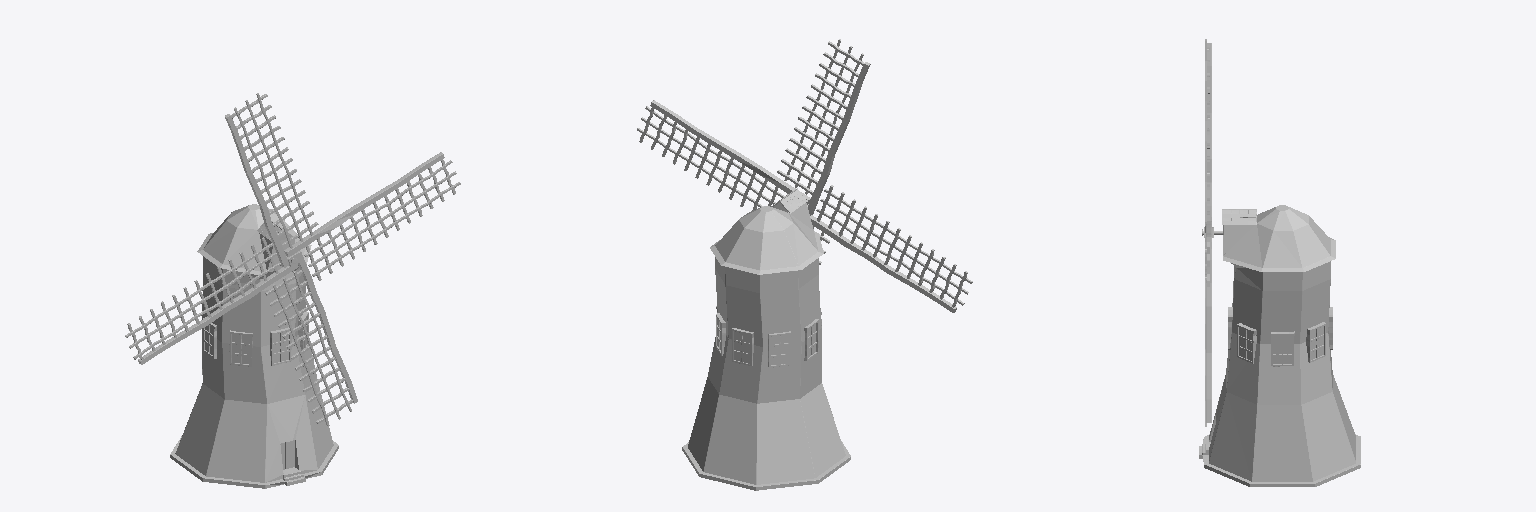
The model's file is windmill_structure.obj.
3 renders of one model, left to right at view 1: azimuth 30°, elevation 25°; view 2: azimuth 150°, elevation 25°; view 3: azimuth 270°, elevation 25°, orthographic.
Parts seen in each view (by area): view 1: mlyn_Cylinder.009, mlyn.001_Cylinder.000; view 2: mlyn_Cylinder.009, mlyn.001_Cylinder.000; view 3: mlyn_Cylinder.009, mlyn.001_Cylinder.000.
Boxes of the visible parts, box(x1,y1,x2,y2) form: mlyn_Cylinder.009: box(170, 204, 338, 488); mlyn.001_Cylinder.000: box(125, 93, 460, 426); mlyn_Cylinder.009: box(682, 188, 850, 490); mlyn.001_Cylinder.000: box(637, 39, 972, 312); mlyn_Cylinder.009: box(1199, 205, 1360, 486); mlyn.001_Cylinder.000: box(1202, 39, 1222, 426).
Size of the model in its own units: 18.2 by 20.55 by 7.64.